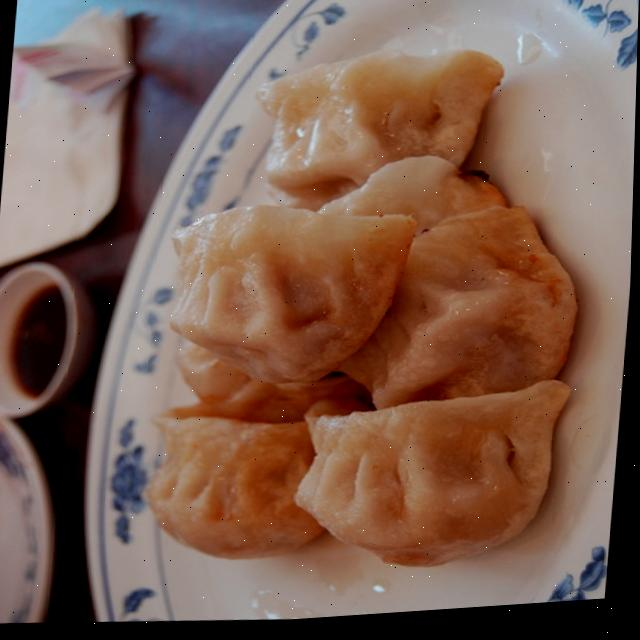带馅早点: (69, 0, 627, 636)
